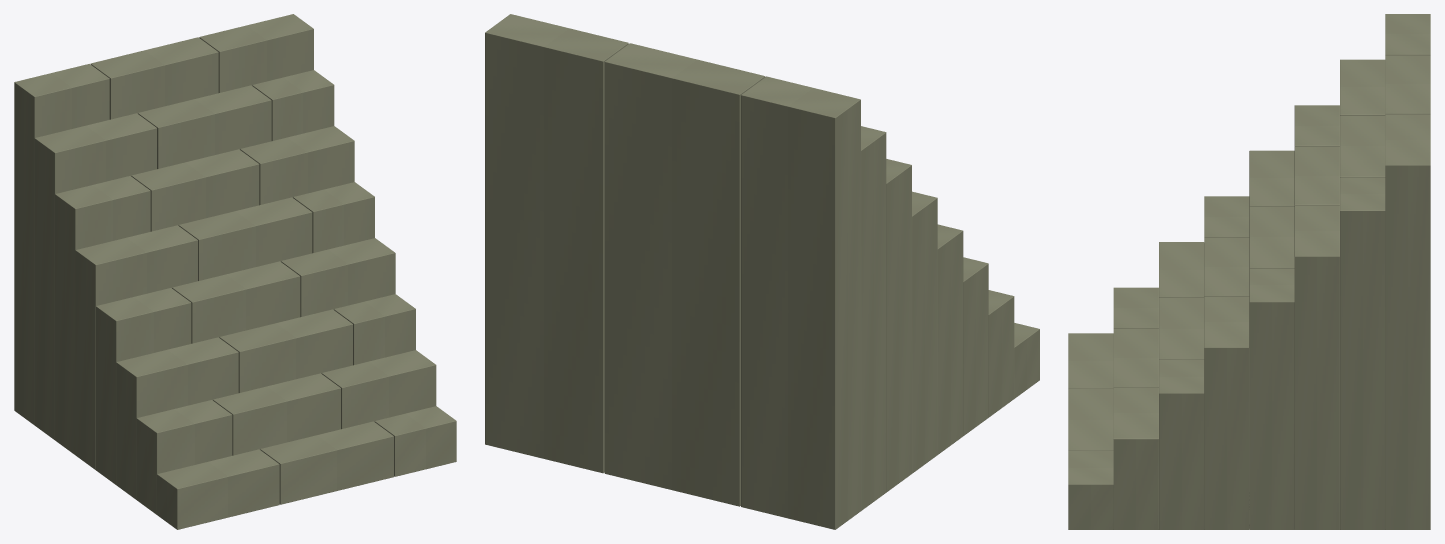
File: SM_Blender_StoneStairs.glb
The picture shows the model from 3 angles, left to right: view 1: azimuth 30°, elevation 25°; view 2: azimuth 150°, elevation 25°; view 3: azimuth 270°, elevation 25°; orthographic projection. The views are drawn at different scales.
Parts seen in each view (by area): view 1: SM_Blender_StoneStairs; view 2: SM_Blender_StoneStairs; view 3: SM_Blender_StoneStairs.
Boxes of the visible parts, bbox=[...] form: SM_Blender_StoneStairs: bbox=[14, 14, 456, 529]; SM_Blender_StoneStairs: bbox=[485, 14, 1039, 529]; SM_Blender_StoneStairs: bbox=[1068, 14, 1430, 529].
Size of the model in its own units: 2.49 by 2.8 by 2.52.
1 material, 1 textured.
